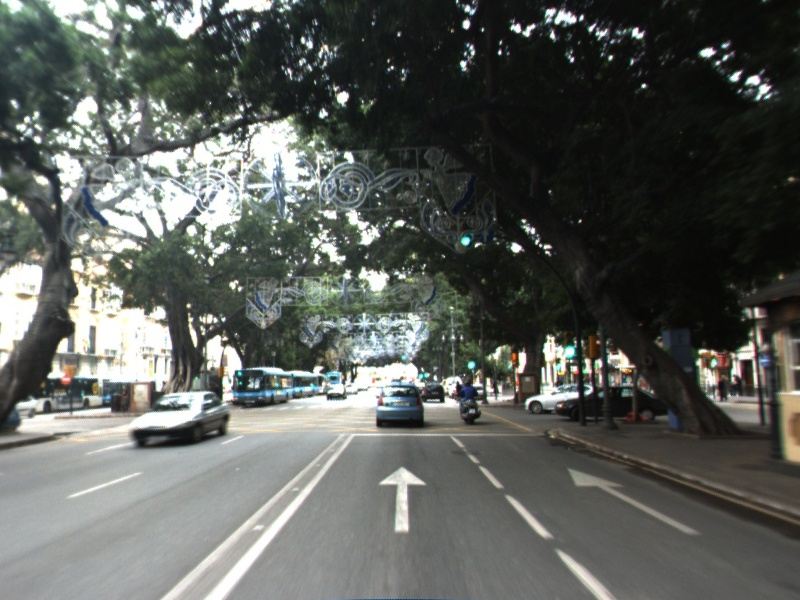STRAIGHT: (566, 466, 705, 538), (376, 464, 430, 536)
